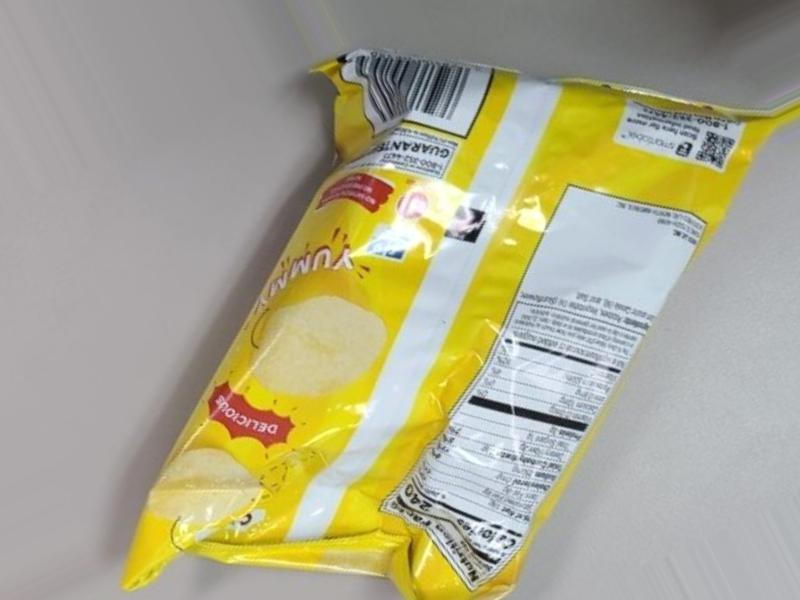lays: (1, 1, 799, 599)
